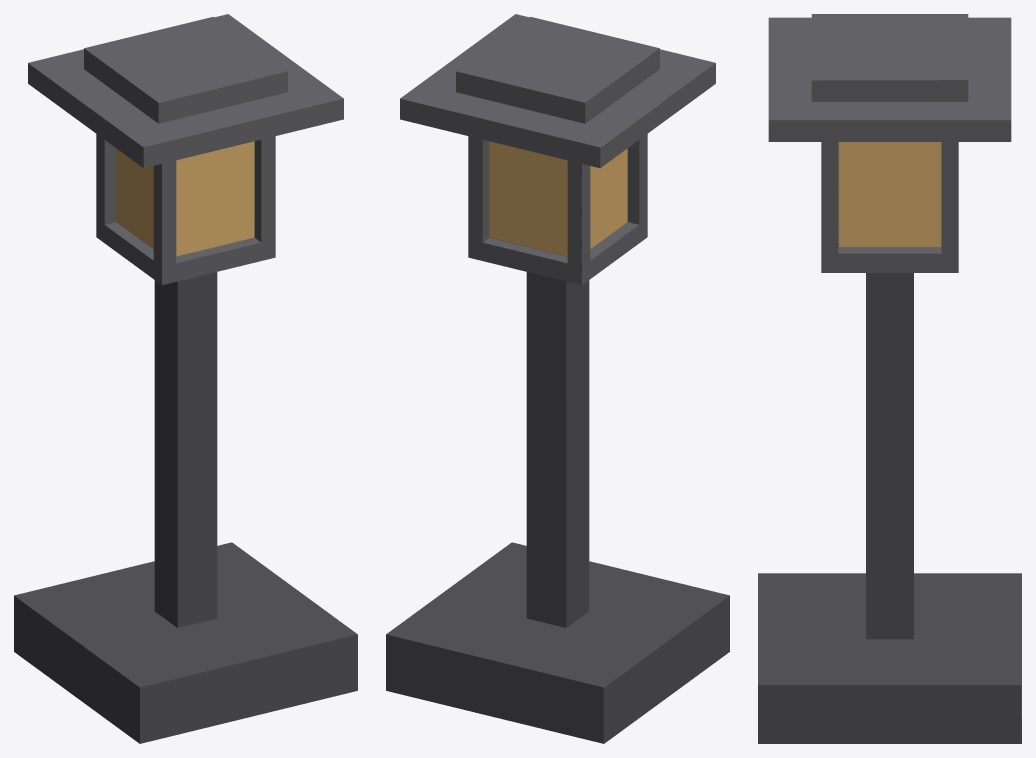
The model's file is lamp.fbx.
The picture shows the model from 3 angles, left to right: view 1: azimuth 30°, elevation 25°; view 2: azimuth 150°, elevation 25°; view 3: azimuth 270°, elevation 25°; orthographic projection. The views are drawn at different scales.
Parts seen in each view (by area): view 1: lamp; view 2: lamp; view 3: lamp.
Part boxes in pixels (x1,y1,x2,y2): lamp: [14, 14, 357, 743]; lamp: [386, 14, 729, 743]; lamp: [758, 14, 1021, 743].
Size of the model in its own units: 104 by 278 by 104.
Materials: 1 (1 with a texture image).
